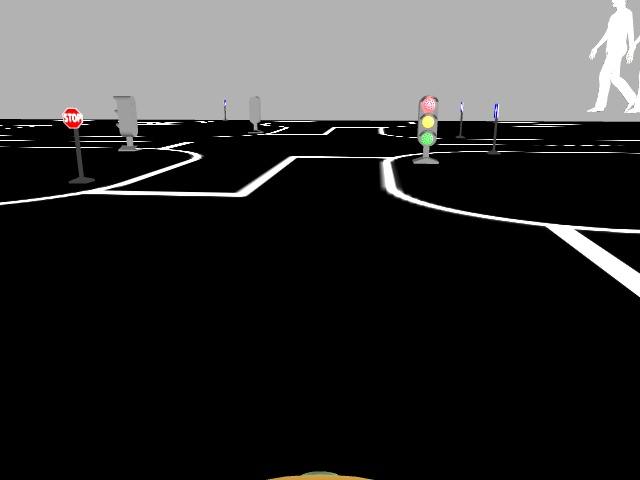Stop: (62, 107, 81, 128)
TrafficLight: (416, 95, 438, 146)
